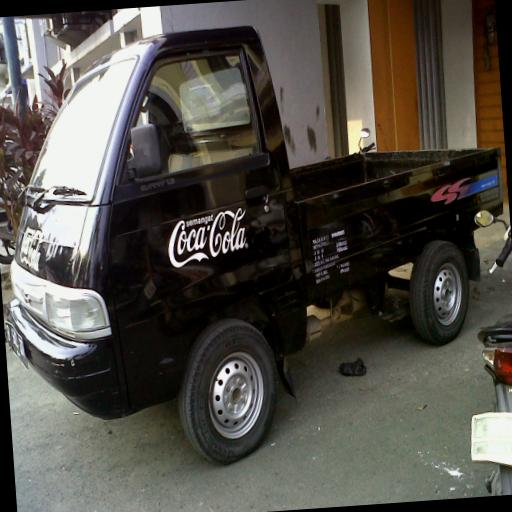truck: (0, 7, 512, 481)
